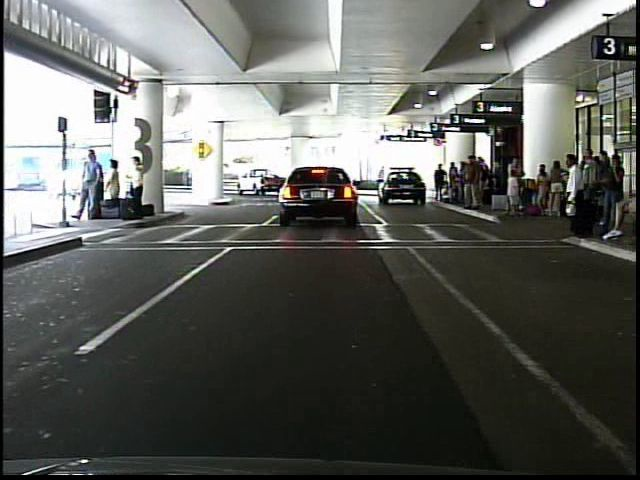person: (550, 145, 599, 248), (78, 147, 106, 224), (129, 151, 148, 221), (106, 156, 125, 214), (432, 162, 449, 203)
